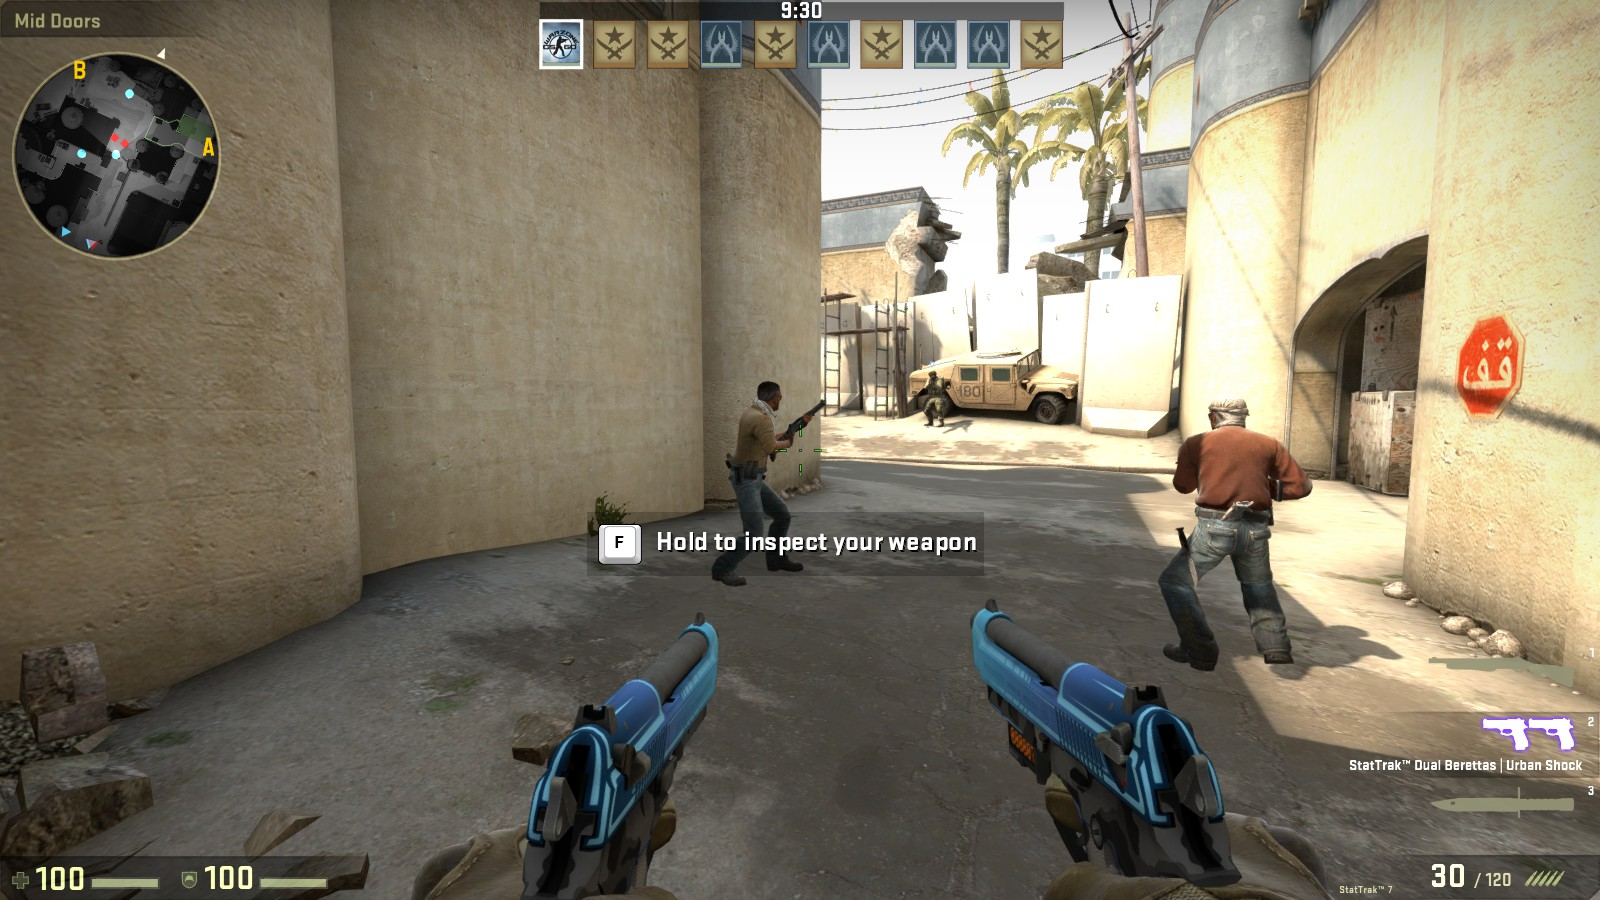c: (920, 371, 948, 427)
ch: (926, 371, 938, 382)
t: (1178, 391, 1281, 666), (722, 373, 802, 578)
th: (1204, 396, 1252, 438), (754, 377, 785, 419)
